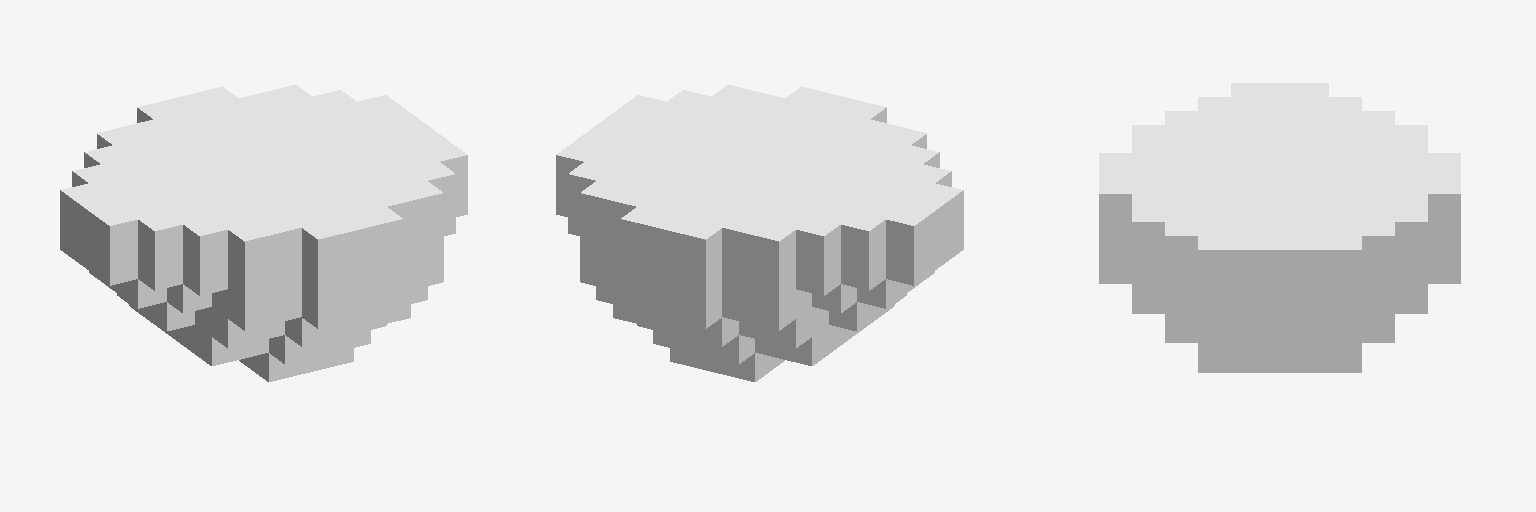
File: Tamago_open.obj
The picture shows the model from 3 angles: view 1: azimuth 30°, elevation 25°; view 2: azimuth 150°, elevation 25°; view 3: azimuth 270°, elevation 25°; orthographic projection.
Parts seen in each view (by area): view 1: object 1; view 2: object 1; view 3: object 1.
Part boxes in pixels (bbox=[...]): object 1: bbox=[60, 85, 467, 381]; object 1: bbox=[556, 85, 963, 381]; object 1: bbox=[1099, 83, 1460, 372].
Bounding box in the file's own units: 1.2 × 0.6 × 1.1.